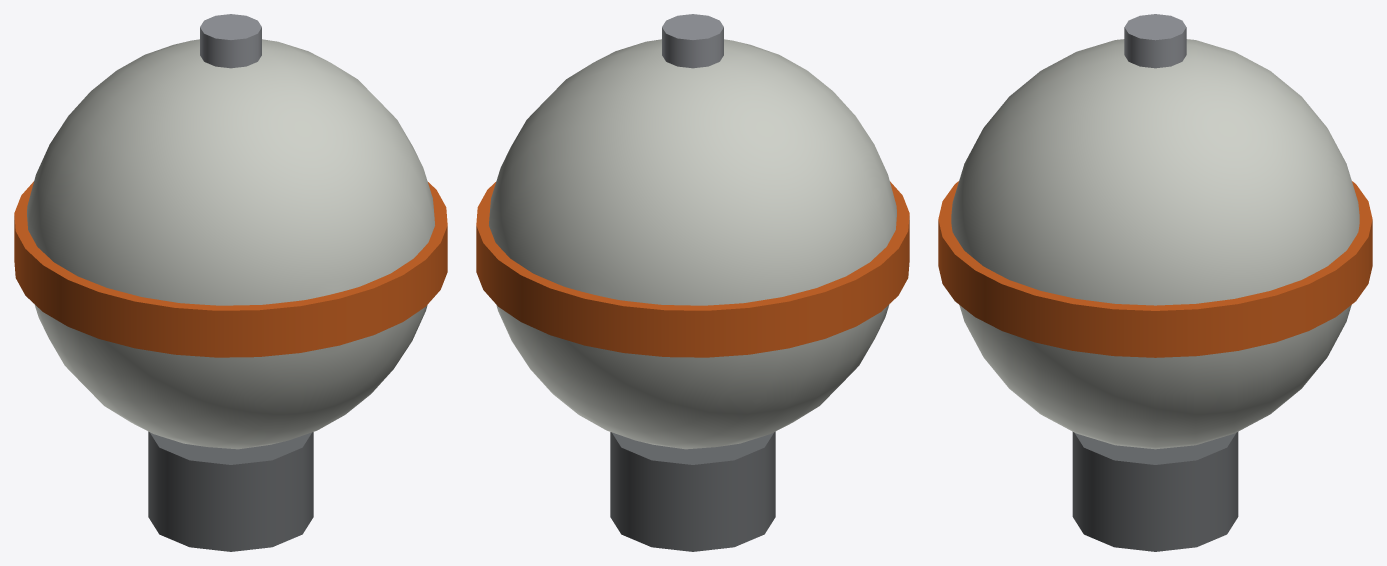
Rendered from o4_water.obj.
3 views of the same model, side by side, from view 1: azimuth 30°, elevation 25°; view 2: azimuth 150°, elevation 25°; view 3: azimuth 270°, elevation 25° (orthographic).
Parts seen in each view (by area): view 1: o4_water; view 2: o4_water; view 3: o4_water.
Part boxes in pixels (<box>): o4_water: <box>14,14,447,551</box>; o4_water: <box>476,14,909,551</box>; o4_water: <box>938,14,1372,551</box>.
Size of the model in its own units: 0.84 by 1.05 by 0.84.
